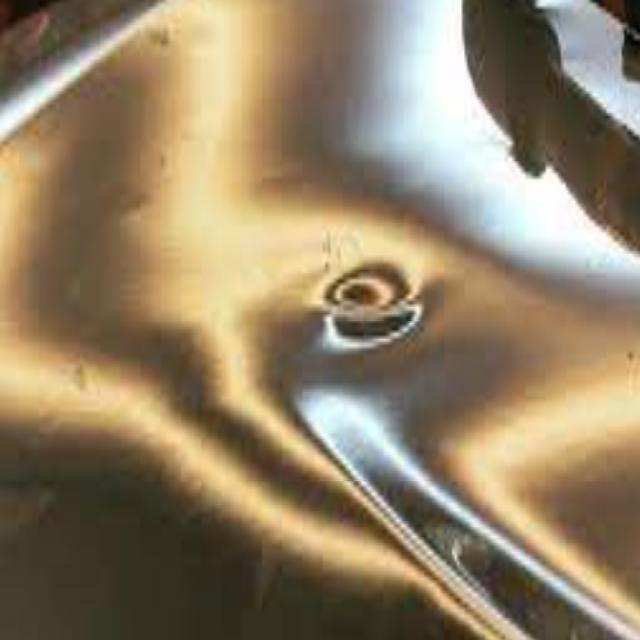dents: (326, 260, 415, 352)
